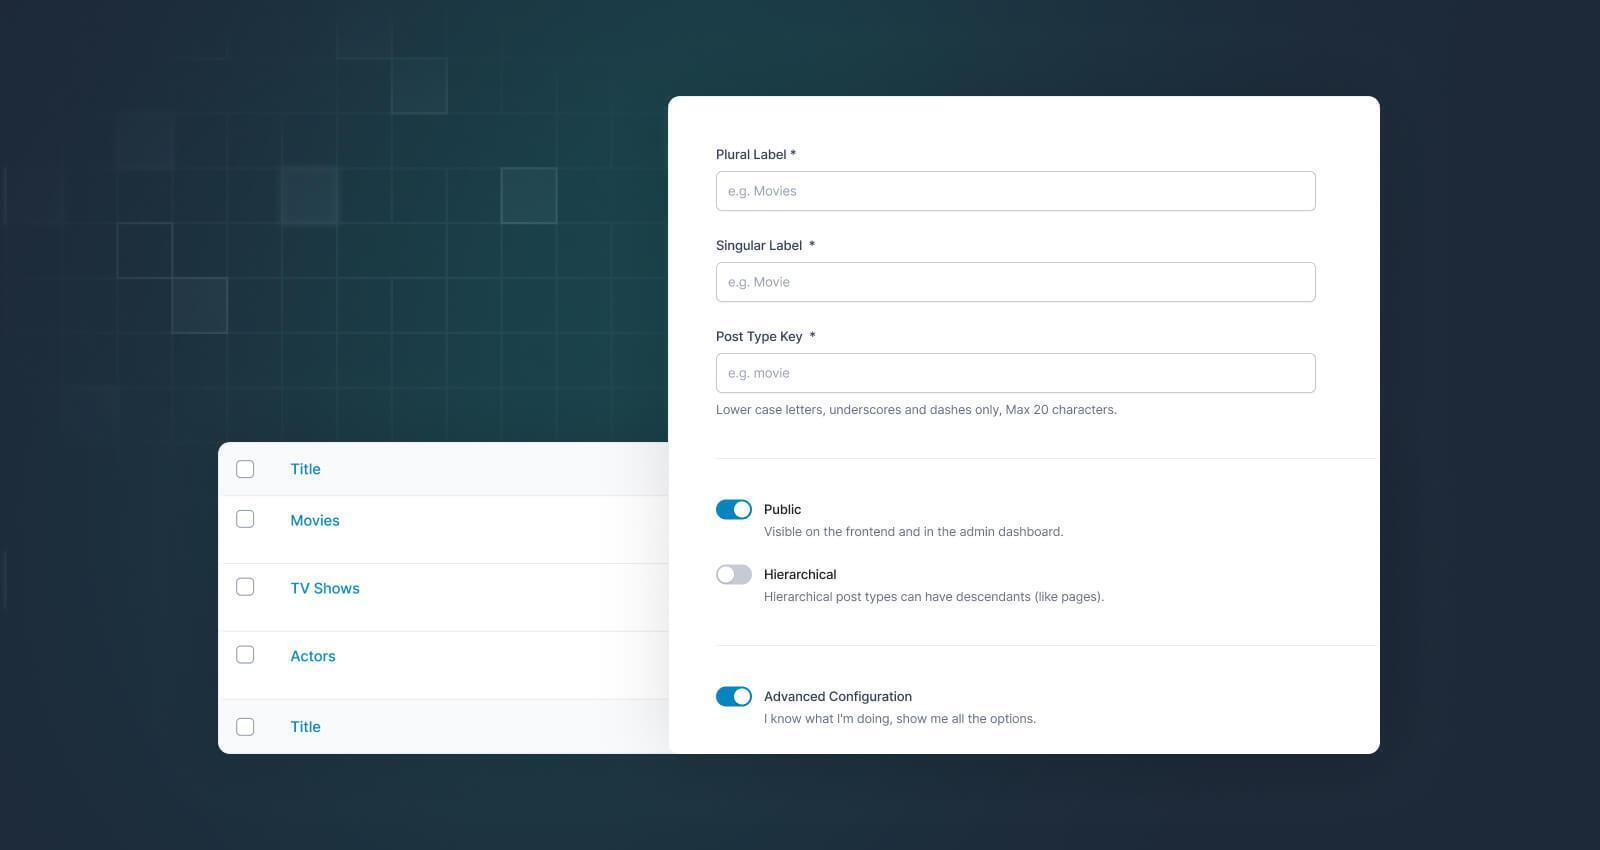checkbox: (236, 578, 255, 597), (236, 647, 256, 664), (235, 720, 255, 736), (237, 462, 254, 480), (237, 512, 254, 528)
input: (719, 264, 1319, 304), (716, 171, 1317, 211), (719, 356, 1317, 395)
label: (758, 567, 1110, 621), (757, 680, 1047, 742), (764, 500, 1078, 549), (717, 401, 1132, 431), (707, 233, 826, 264), (281, 508, 353, 547), (707, 327, 821, 351), (290, 574, 365, 608), (712, 140, 804, 167), (283, 456, 343, 490), (287, 641, 338, 673), (287, 710, 330, 741)
switch: (717, 501, 756, 523), (715, 687, 753, 708), (716, 567, 754, 586)
